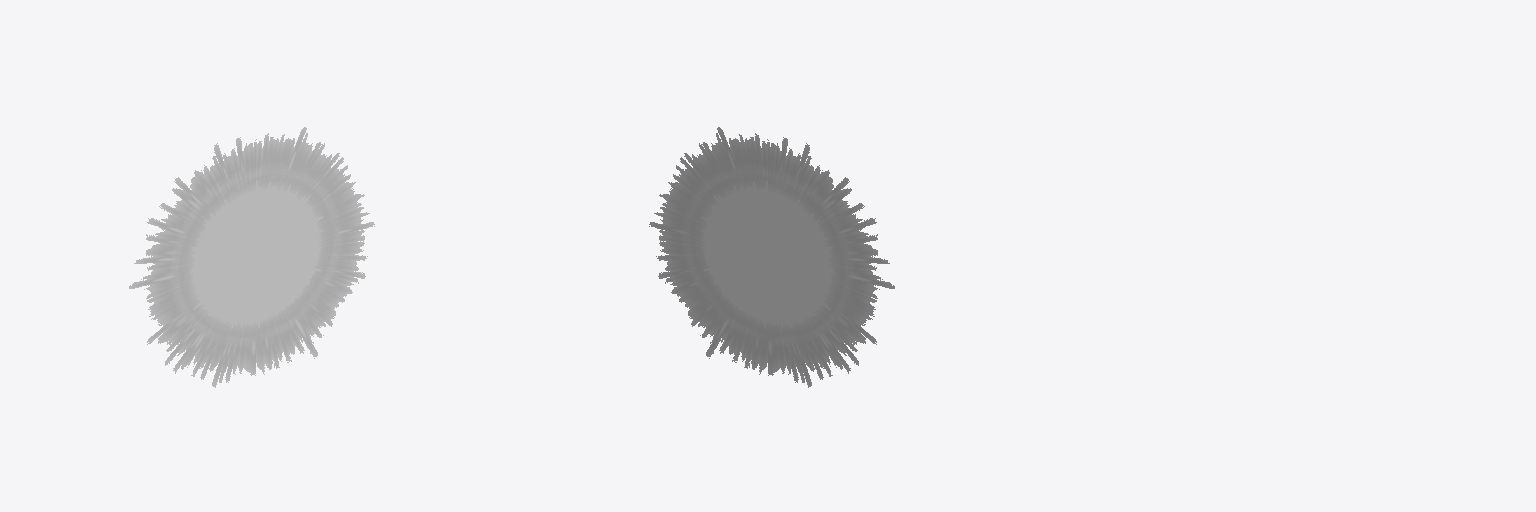
The picture shows the model from 3 angles: view 1: azimuth 30°, elevation 25°; view 2: azimuth 150°, elevation 25°; view 3: azimuth 270°, elevation 25°; orthographic projection.
Parts seen in each view (by area): view 1: obj3, obj2, obj1; view 2: obj3, obj2, obj1; view 3: none.
Part boxes in pixels (x1,y1,x2,y2): obj3: (129, 127, 370, 387); obj2: (175, 127, 374, 317); obj1: (129, 189, 333, 386); obj3: (653, 127, 894, 387); obj2: (649, 127, 848, 317); obj1: (690, 189, 894, 386).
Size of the model in its own units: 0.8725 by 0.8725 by 0.
Materials: 1 (1 with a texture image).